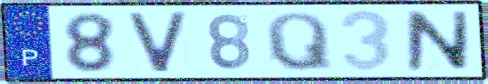3: (338, 8, 397, 74)
8: (60, 11, 117, 74), (206, 12, 252, 71)
N: (404, 10, 471, 73)
Q: (263, 10, 336, 73)
V: (125, 10, 191, 74)
